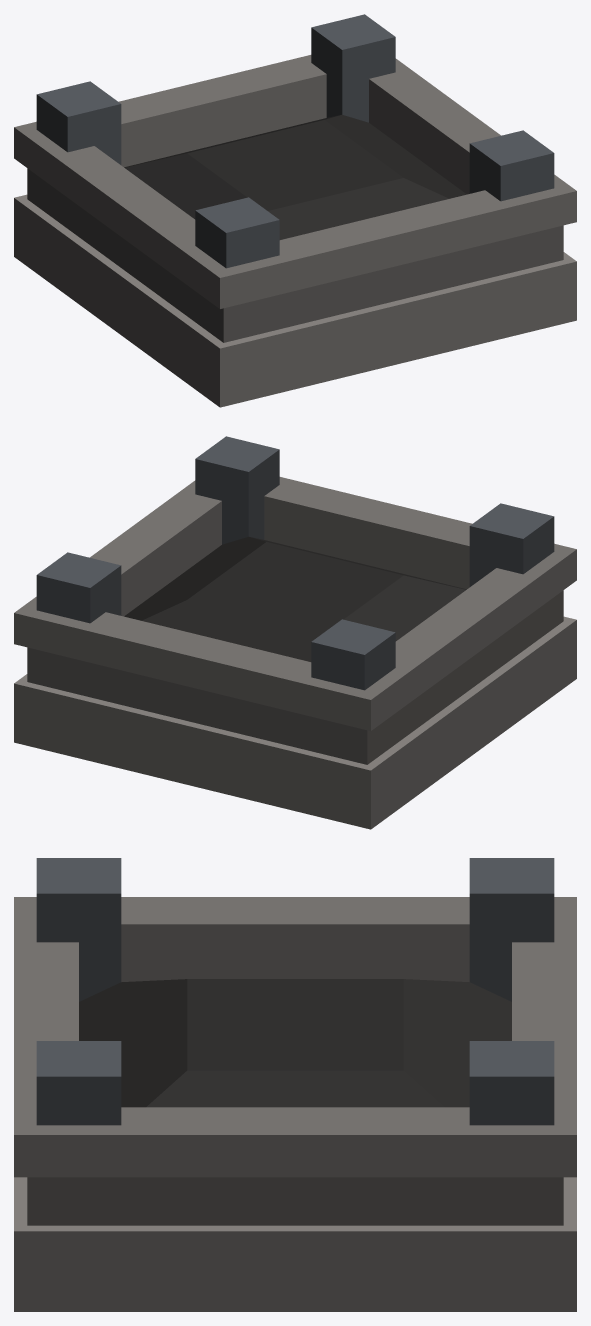
Rendered from Forge.gltf.
3 views of the same model, one above another, from view 1: azimuth 30°, elevation 25°; view 2: azimuth 150°, elevation 25°; view 3: azimuth 270°, elevation 25° (orthographic). The views are drawn at different scales.
Parts seen in each view (by area): view 1: SF_Prop_Forge_01; view 2: SF_Prop_Forge_01; view 3: SF_Prop_Forge_01.
Boxes of the visible parts, x1=… form: SF_Prop_Forge_01: x1=14, y1=14, x2=576, y2=407; SF_Prop_Forge_01: x1=14, y1=436, x2=576, y2=829; SF_Prop_Forge_01: x1=14, y1=858, x2=576, y2=1311.
Bounding box in the file's own units: 0.0226 × 0.01 × 0.0226.
1 material, 1 textured.
